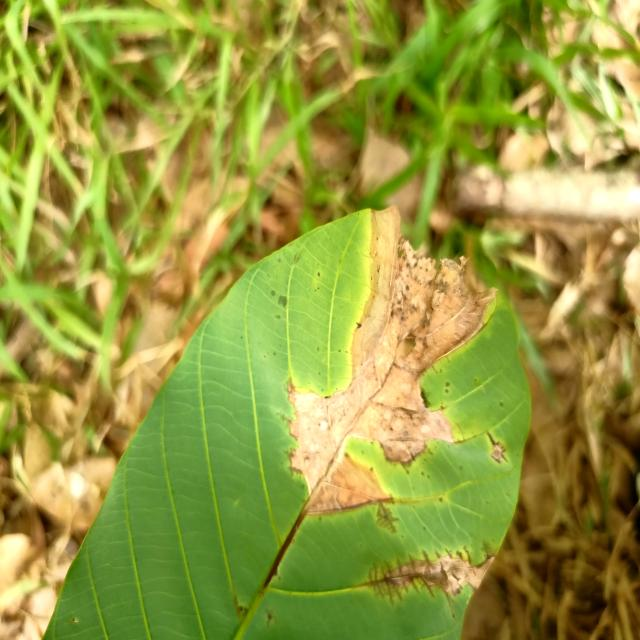Corynespora: (363, 546, 496, 608), (263, 505, 307, 589), (376, 502, 398, 534), (487, 430, 507, 464)
Leaf-Blight: (287, 205, 499, 515)
